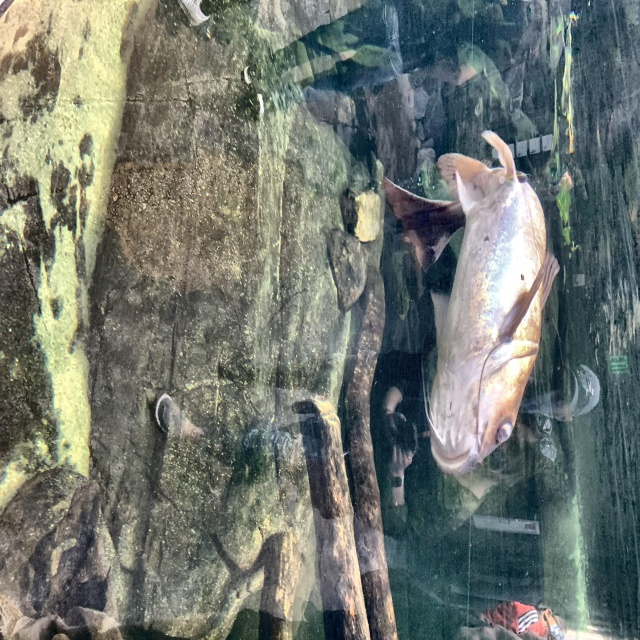fish: (383, 123, 559, 479)
